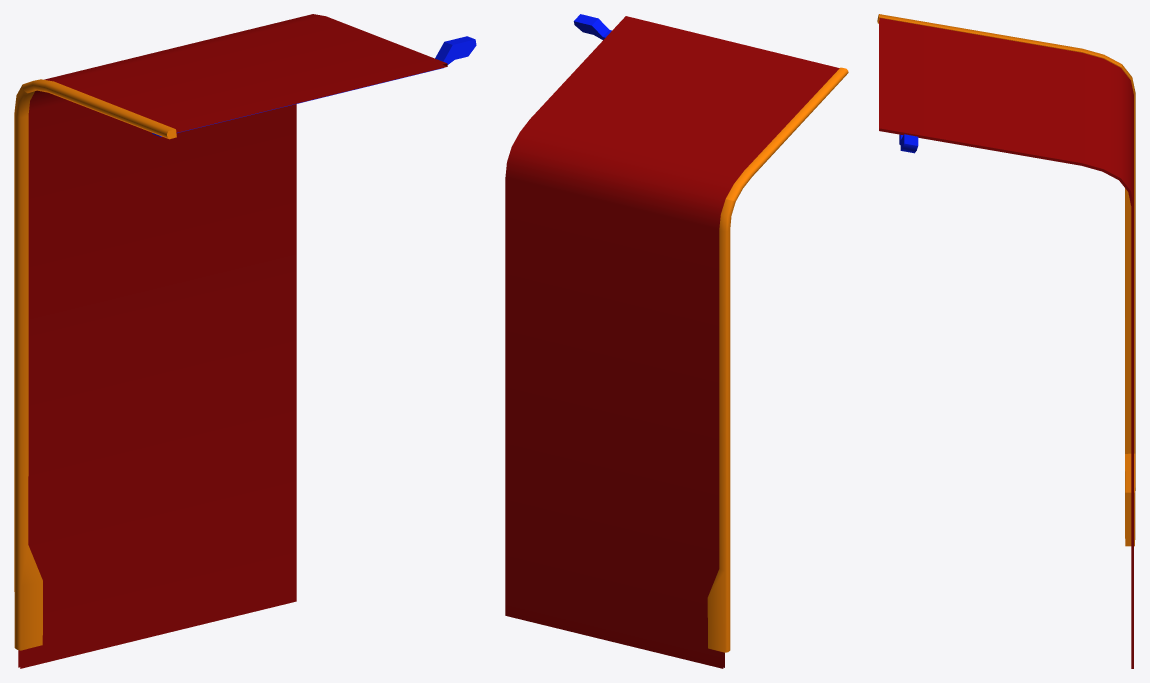
File: SM_Tram_Door_Left.FBX
The picture shows the model from 3 angles, left to right: view 1: azimuth 30°, elevation 25°; view 2: azimuth 150°, elevation 25°; view 3: azimuth 270°, elevation 25°; orthographic projection. The views are drawn at different scales.
Visible parts, largest first — view 1: door_l; view 2: door_l; view 3: door_l.
Part boxes in pixels (x1,y1,x2,y2): door_l: [14, 14, 476, 668]; door_l: [505, 14, 848, 668]; door_l: [877, 14, 1135, 668].
Size of the model in its own units: 138 by 264 by 114.
